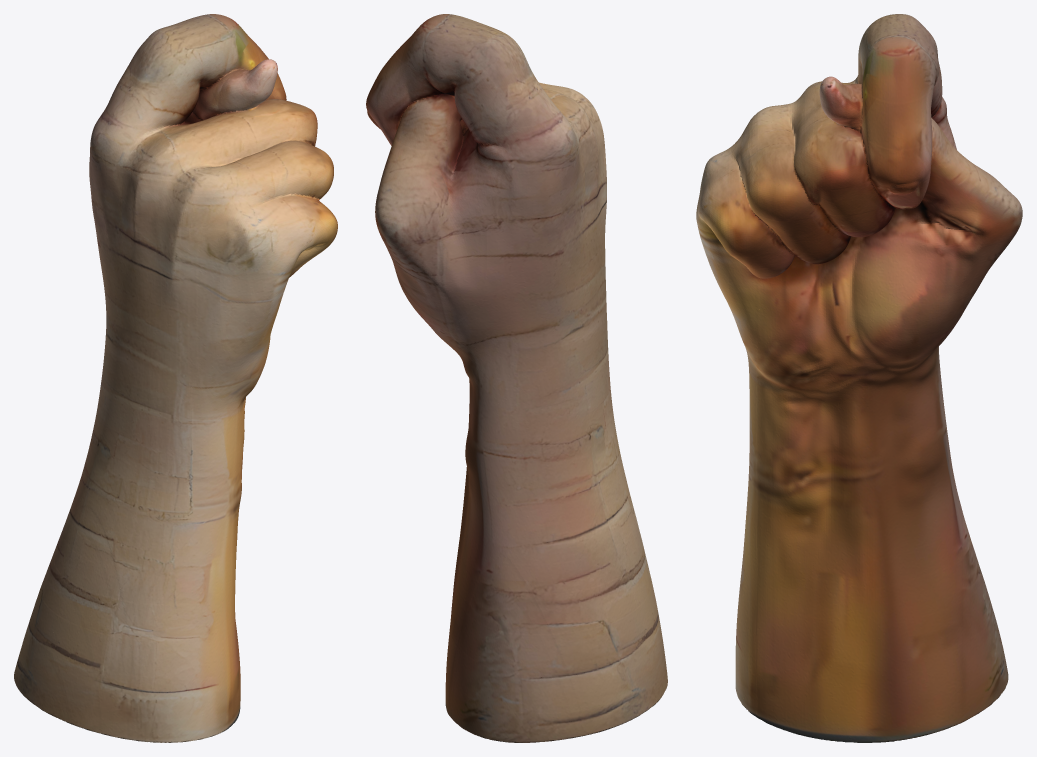
File: letter_T.glb
3 views of the same model, side by side, from view 1: azimuth 30°, elevation 25°; view 2: azimuth 150°, elevation 25°; view 3: azimuth 270°, elevation 25° (orthographic). The views are drawn at different scales.
Visible parts, largest first — view 1: tripo_node_1ce01047-7a25-4133-9b4f-3876546f4787; view 2: tripo_node_1ce01047-7a25-4133-9b4f-3876546f4787; view 3: tripo_node_1ce01047-7a25-4133-9b4f-3876546f4787.
Part boxes in pixels (bbox=[...]): tripo_node_1ce01047-7a25-4133-9b4f-3876546f4787: bbox=[14, 14, 337, 742]; tripo_node_1ce01047-7a25-4133-9b4f-3876546f4787: bbox=[366, 14, 667, 742]; tripo_node_1ce01047-7a25-4133-9b4f-3876546f4787: bbox=[696, 14, 1022, 742].
Bounding box in the file's own units: 0.419 × 1 × 0.4171.
1 material, 1 textured.
